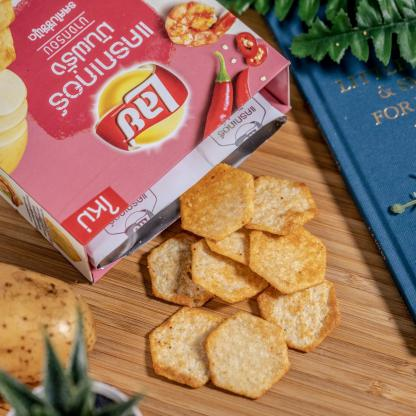potatochip: (0, 0, 293, 289)
